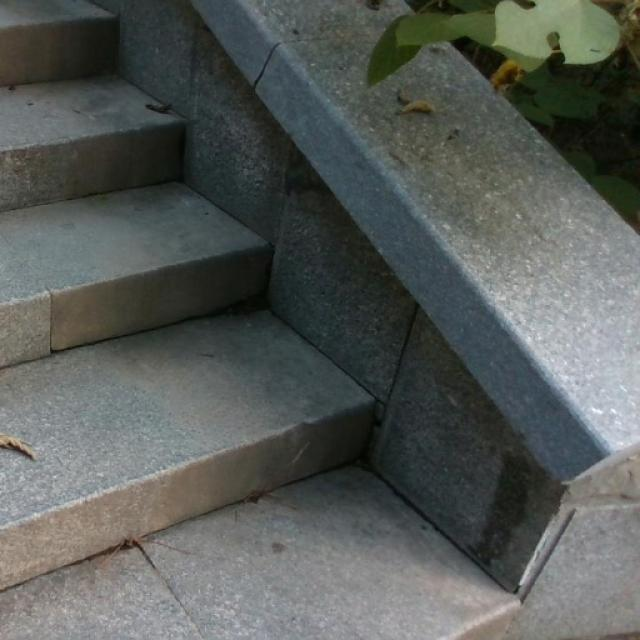Stairs: (0, 0, 538, 640)
